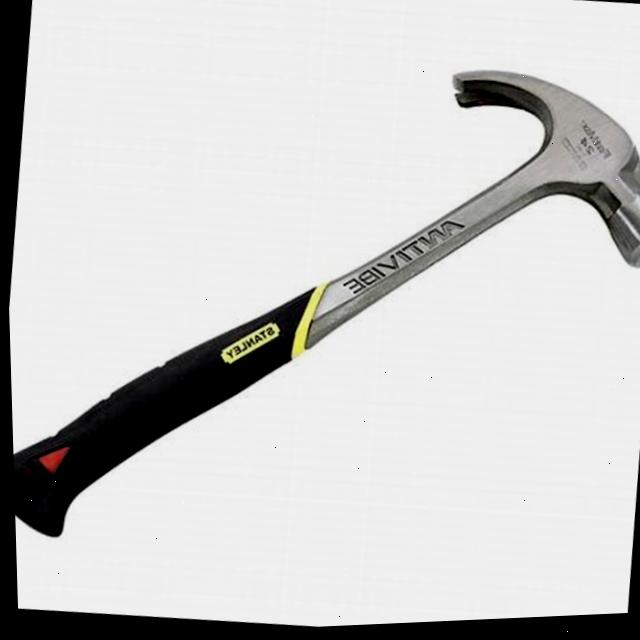hammer: (1, 10, 640, 606)
